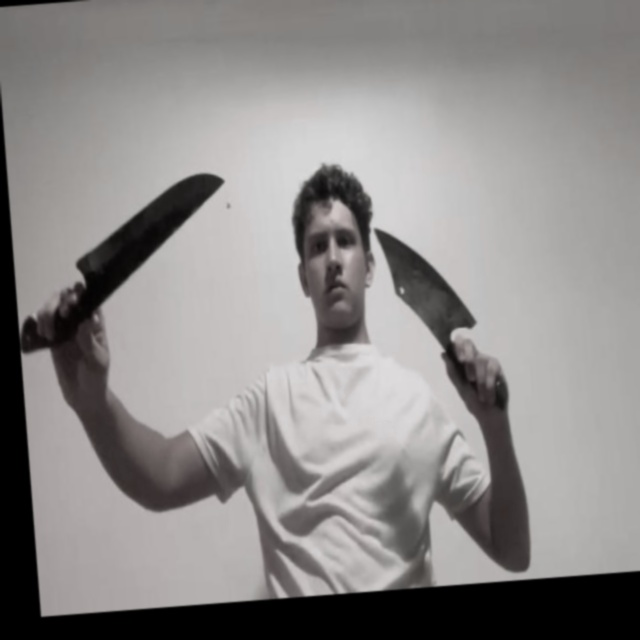Sharp-Object: (69, 171, 232, 278), (375, 222, 474, 339)
